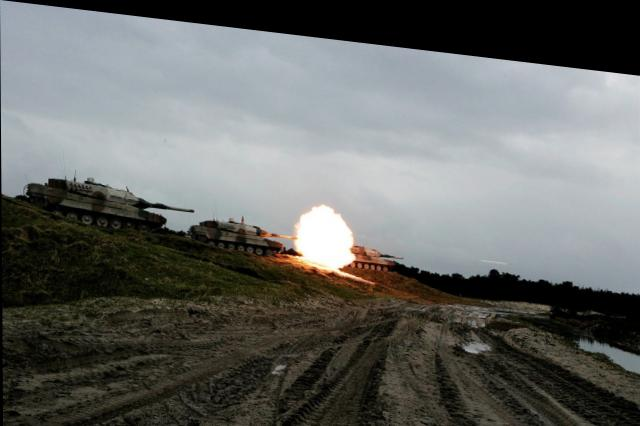tank: (17, 153, 195, 240), (195, 193, 302, 255)
